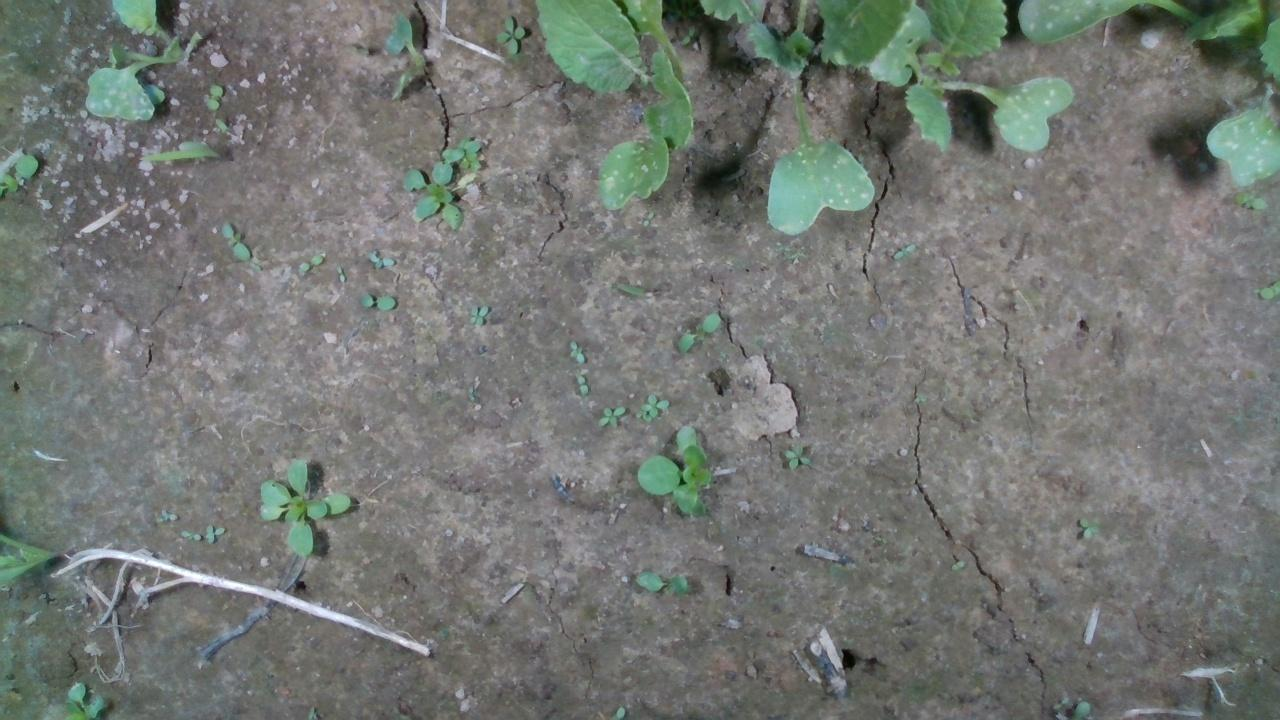weed: (674, 311, 722, 354), (633, 567, 688, 595), (493, 13, 527, 54), (219, 220, 250, 261), (778, 441, 813, 469), (1232, 188, 1269, 213), (355, 290, 398, 311), (596, 403, 628, 429), (463, 302, 489, 328), (565, 339, 588, 367), (366, 249, 395, 270), (1076, 517, 1101, 541), (203, 81, 223, 110), (202, 521, 225, 546), (296, 252, 323, 271), (575, 372, 591, 397), (178, 529, 201, 541), (334, 262, 347, 283), (946, 558, 964, 570)
